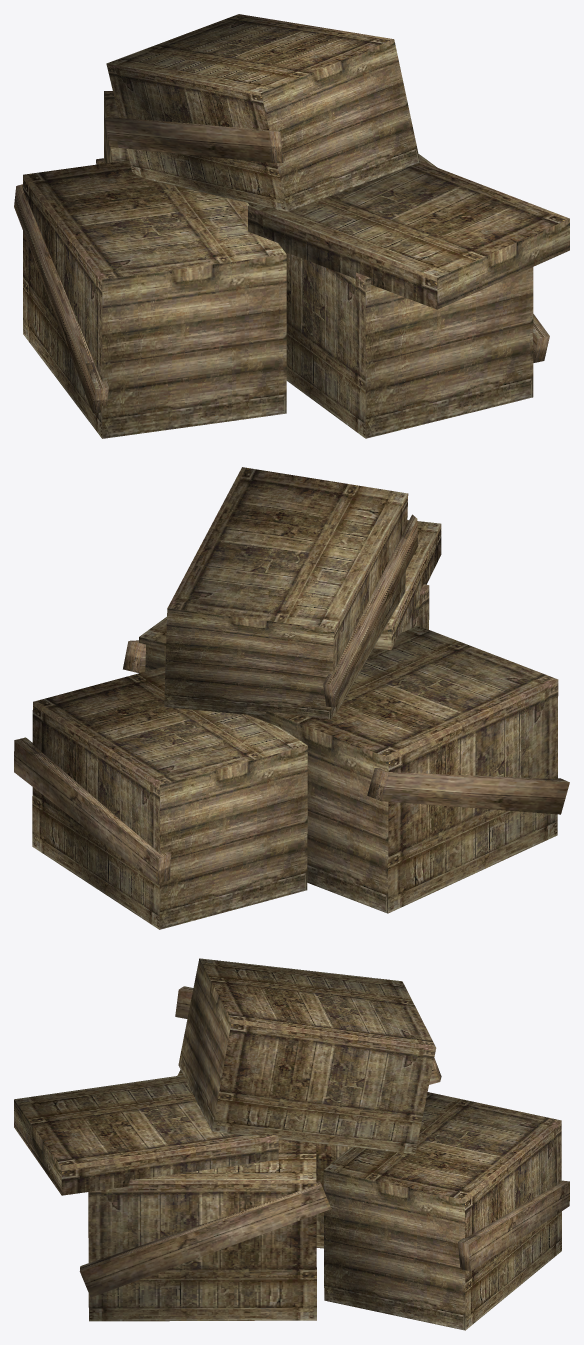
Rendered from S_Build_West025.FBX.
3 renders of one model, top to bottom at view 1: azimuth 30°, elevation 25°; view 2: azimuth 150°, elevation 25°; view 3: azimuth 270°, elevation 25°, orthographic. The views are drawn at different scales.
Parts seen in each view (by area): view 1: S_Build_West025; view 2: S_Build_West025; view 3: S_Build_West025.
Boxes of the visible parts, left/top/right/bottom form: S_Build_West025: left=14, top=14, right=569, bottom=438; S_Build_West025: left=14, top=467, right=569, bottom=929; S_Build_West025: left=14, top=958, right=569, bottom=1330.
Bounding box in the file's own units: 276 × 363 × 199.
